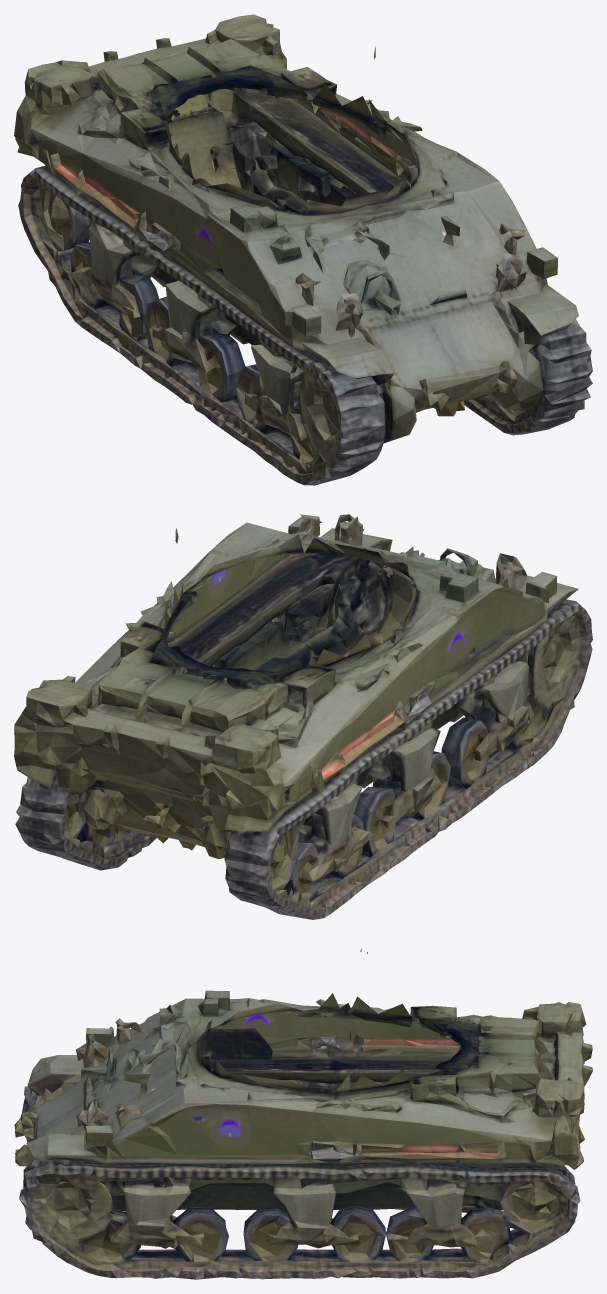
Rendered from firefly_hull.obj.
3 renders of one model, top to bottom at view 1: azimuth 30°, elevation 25°; view 2: azimuth 150°, elevation 25°; view 3: azimuth 270°, elevation 25°, orthographic. The views are drawn at different scales.
Visible parts, largest first — view 1: firefly_hull; view 2: firefly_hull; view 3: firefly_hull.
Part boxes in pixels (box(x1,y1,x2,y2)): firefly_hull: box(14, 14, 592, 485); firefly_hull: box(14, 514, 592, 919); firefly_hull: box(14, 949, 592, 1279).
Size of the model in its own units: 2.93 by 2.95 by 6.33.
1 material, 1 textured.
